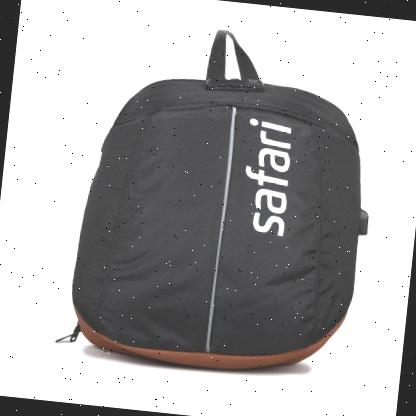bag: (56, 11, 390, 390)
